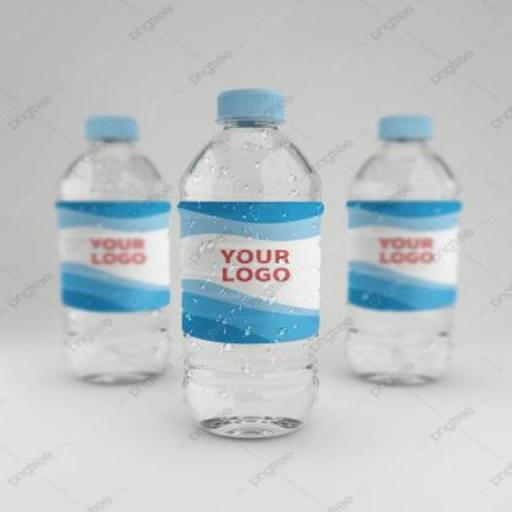Coca: (164, 81, 330, 445), (329, 103, 474, 401), (50, 102, 177, 392)
